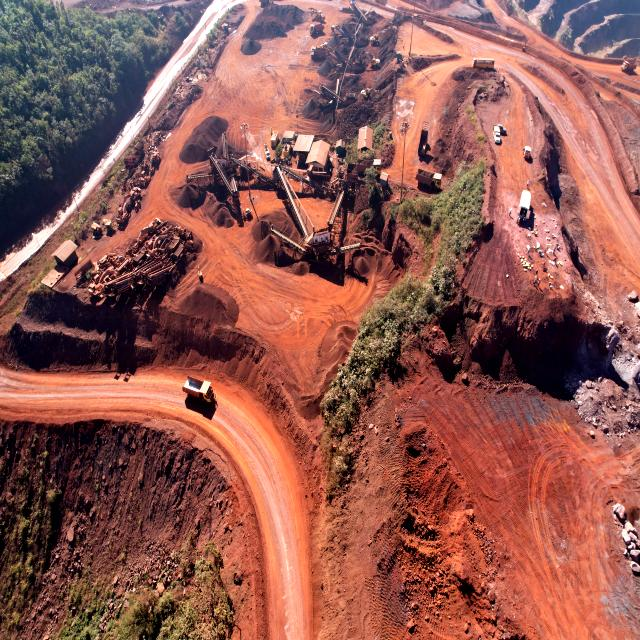Dumper truck: (182, 378, 212, 403), (417, 172, 443, 190), (357, 158, 382, 174), (420, 119, 430, 158), (310, 46, 327, 58), (310, 23, 324, 34), (622, 61, 636, 71), (261, 0, 274, 6)
Excavator: (115, 193, 132, 226), (359, 48, 381, 69), (370, 28, 390, 46), (361, 87, 384, 101)
car: (494, 126, 501, 143), (524, 146, 532, 159), (500, 124, 507, 134)
person: (526, 245, 531, 257), (526, 179, 531, 188), (544, 245, 548, 254), (538, 278, 542, 287), (542, 260, 546, 269), (508, 208, 512, 216), (553, 246, 557, 254), (555, 238, 558, 246), (402, 43, 405, 49)
